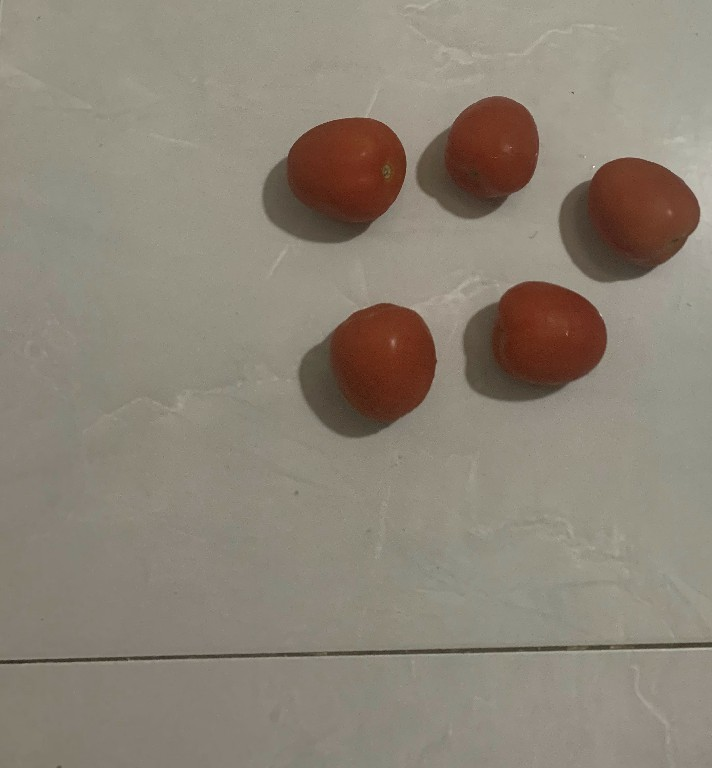OK: (281, 112, 406, 234), (328, 295, 439, 428), (582, 148, 701, 268), (494, 274, 607, 392), (440, 92, 539, 203)
